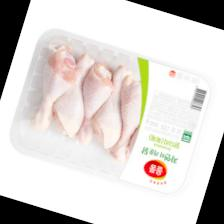chicken: (24, 39, 84, 136), (44, 46, 102, 138), (84, 60, 140, 152), (64, 57, 118, 148)
